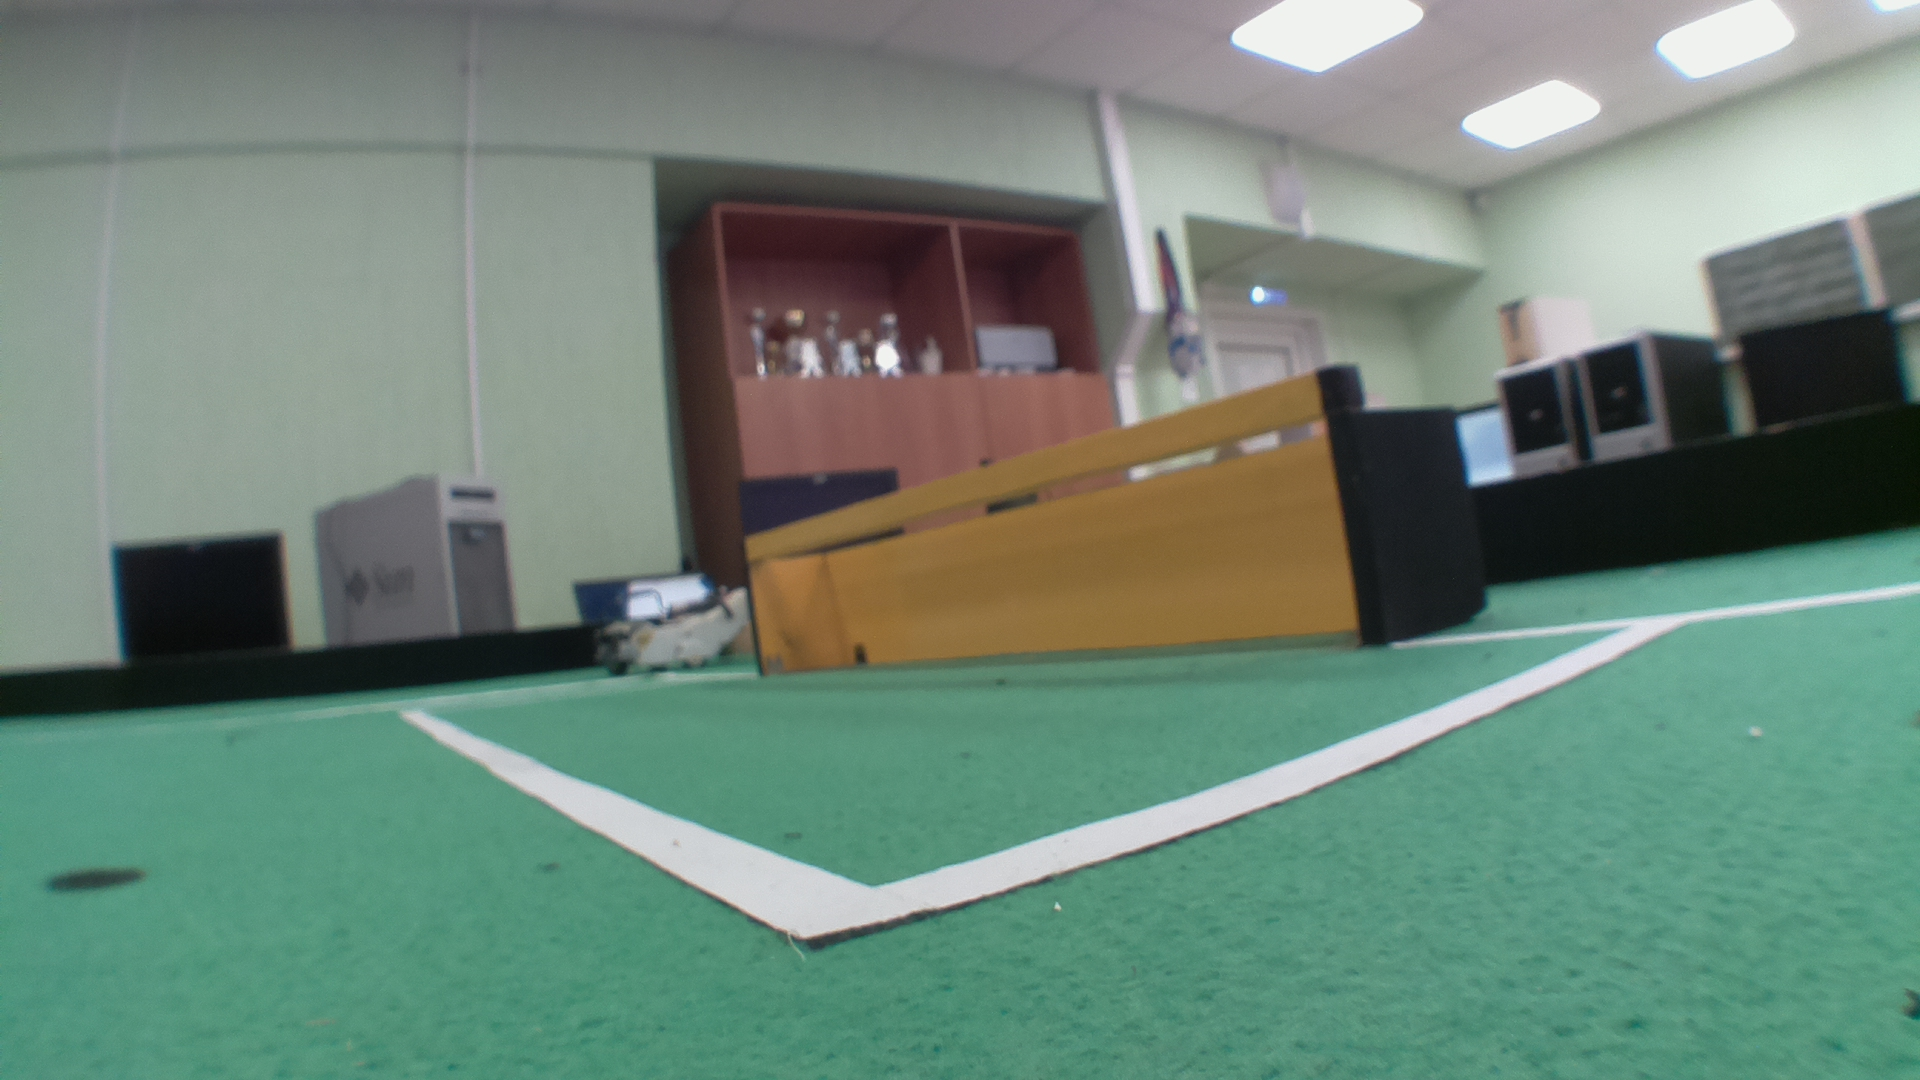YellowGoal: (742, 376, 1367, 673)
